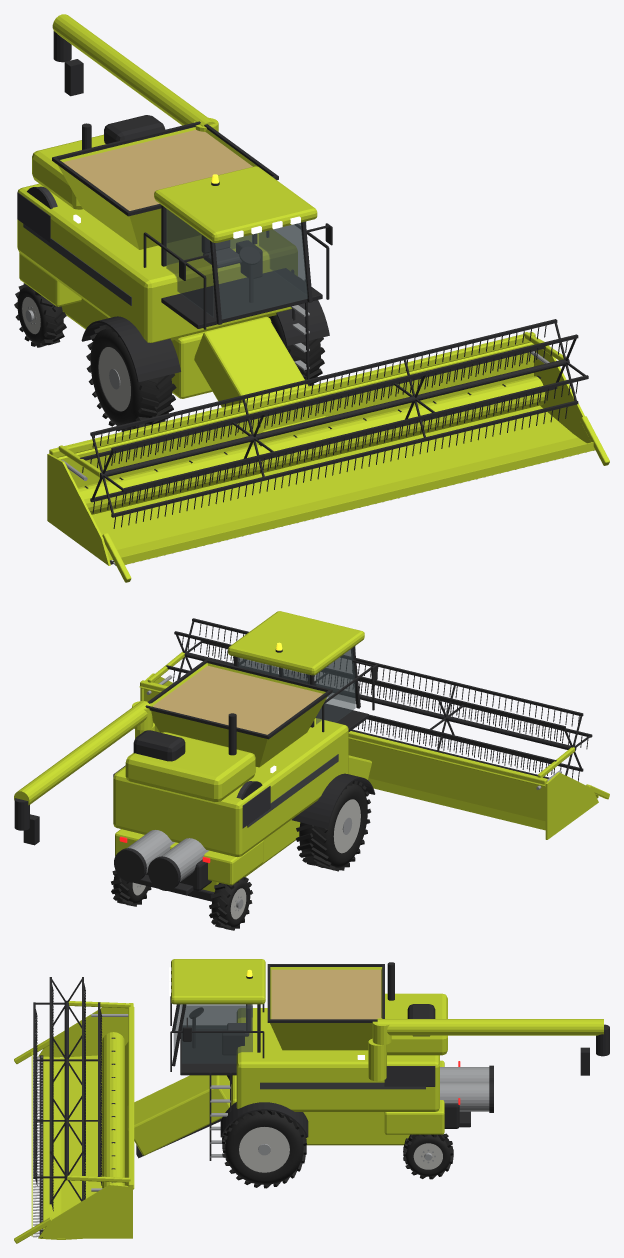
The model's file is cosechadora_claas_lexion7700.glb.
3 views of the same model, one above another, from view 1: azimuth 30°, elevation 25°; view 2: azimuth 150°, elevation 25°; view 3: azimuth 270°, elevation 25° (orthographic). The views are drawn at different scales.
Visible parts, largest first — view 1: cabezal, carroceria, molinete, vidrios, carga, rueda_dd, tubo_descarga, rueda_td, rueda_di; view 2: carroceria, cabezal, molinete, carga, rueda_dd, tubo_descarga, vidrios, rueda_td, rueda_ti; view 3: carroceria, cabezal, carga, molinete, rueda_di, tubo_descarga, vidrios, rueda_ti.
Boxes of the visible parts, x1=… form: cabezal: x1=47, y1=317, x2=609, y2=582; carroceria: x1=17, y1=59, x2=332, y2=398; molinete: x1=80, y1=319, x2=588, y2=528; vidrios: x1=166, y1=209, x2=307, y2=319; carga: x1=63, y1=130, x2=252, y2=210; rueda_dd: x1=86, y1=324, x2=176, y2=431; tubo_descarga: x1=52, y1=14, x2=218, y2=131; rueda_td: x1=14, y1=283, x2=66, y2=347; rueda_di: x1=268, y1=315, x2=324, y2=385; carroceria: x1=23, y1=611, x2=377, y2=901; cabezal: x1=139, y1=652, x2=609, y2=839; molinete: x1=166, y1=618, x2=592, y2=781; carga: x1=153, y1=666, x2=322, y2=734; rueda_dd: x1=296, y1=780, x2=371, y2=871; tubo_descarga: x1=14, y1=701, x2=152, y2=830; vidrios: x1=238, y1=646, x2=355, y2=724; rueda_td: x1=209, y1=877, x2=252, y2=930; rueda_ti: x1=111, y1=870, x2=151, y2=906; carroceria: x1=170, y1=959, x2=589, y2=1160; cabezal: x1=14, y1=1001, x2=231, y2=1243; carga: x1=271, y1=969, x2=381, y2=1019; molinete: x1=33, y1=977, x2=102, y2=1211; rueda_di: x1=222, y1=1110, x2=306, y2=1188; tubo_descarga: x1=372, y1=1018, x2=609, y2=1056; vidrios: x1=173, y1=1004, x2=252, y2=1063; rueda_ti: x1=403, y1=1133, x2=453, y2=1179.
Size of the model in its own units: 9.34 by 4.39 by 12.91.
